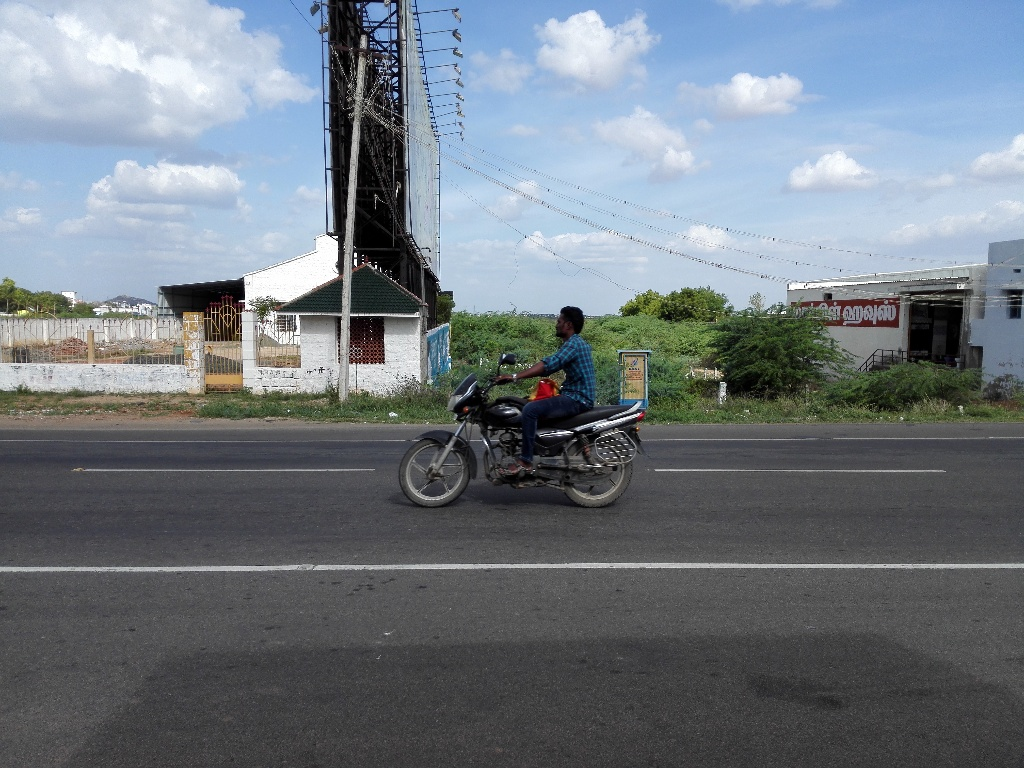biker: (385, 257, 680, 524)
nohelmet: (550, 293, 592, 352)
